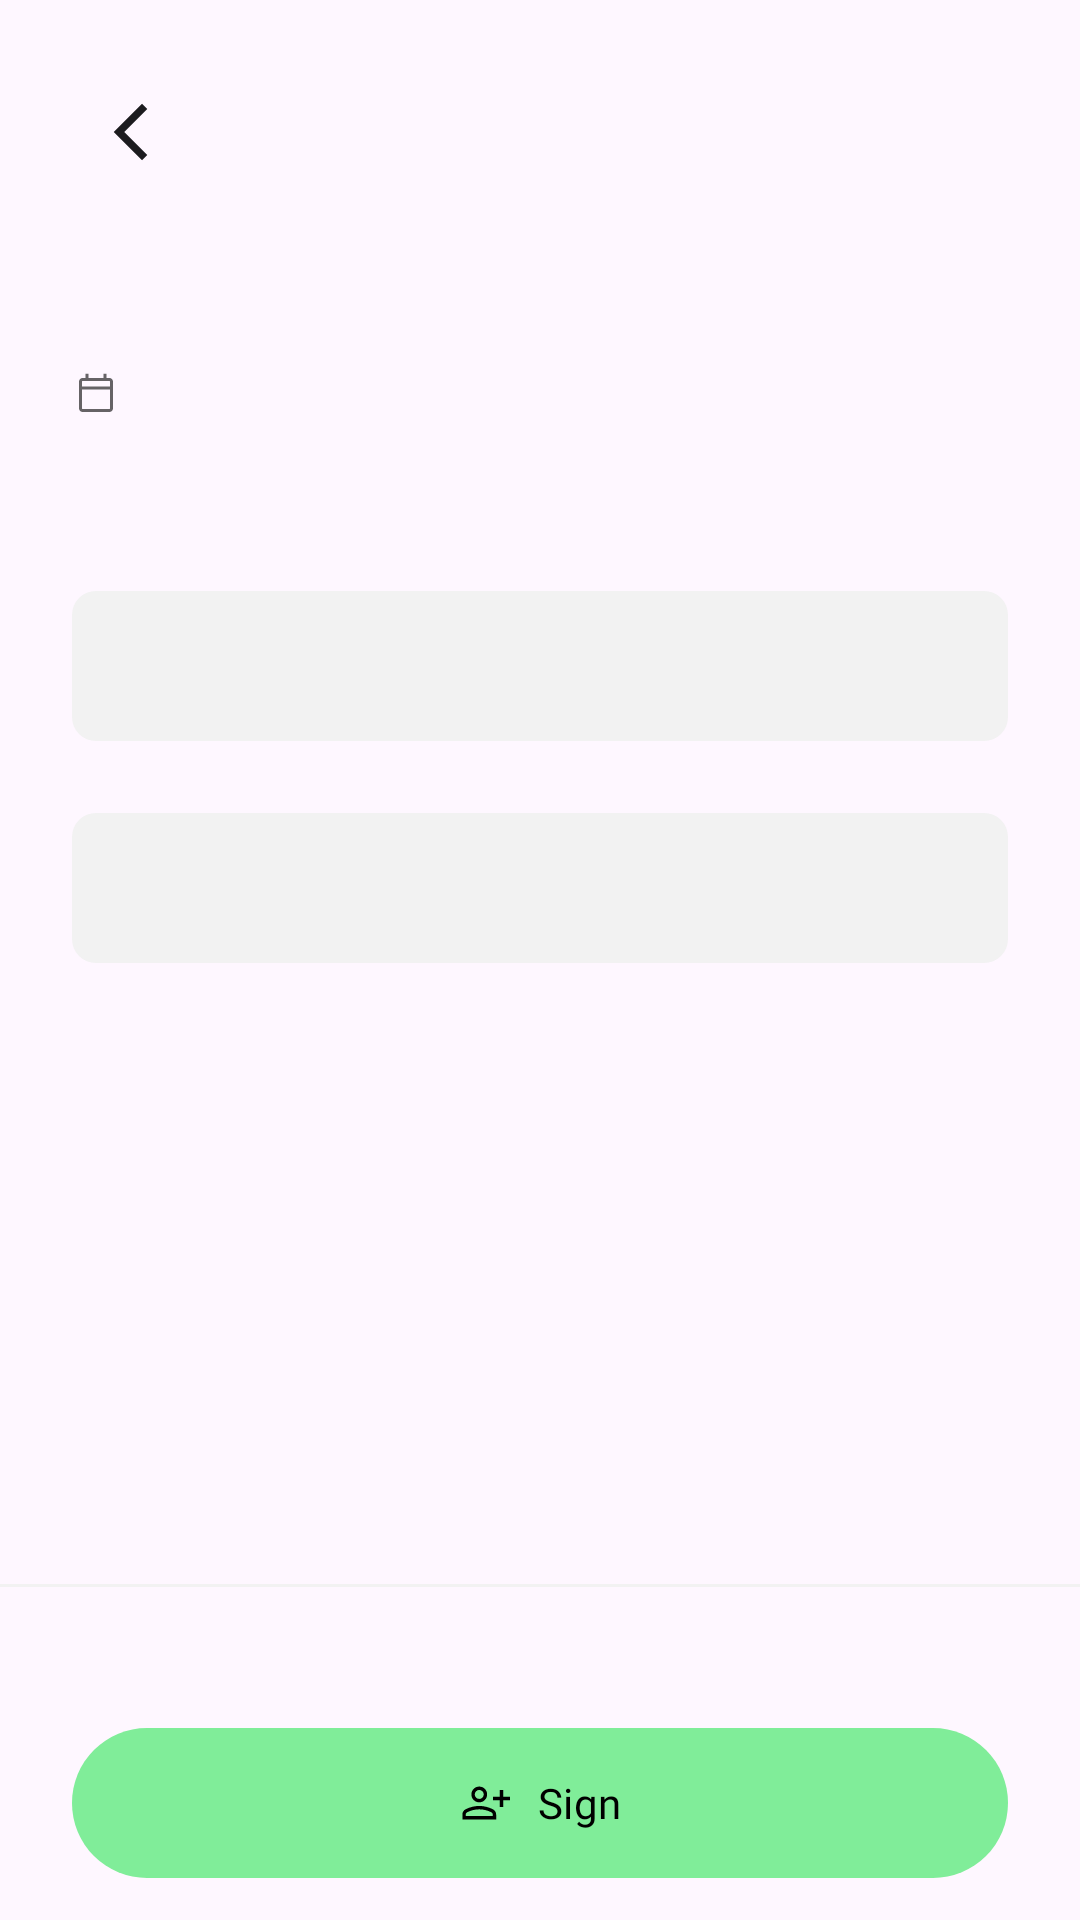

Named icons in this screenshot (1080px×1920px) and their bounding boxes, bbox=(x1, y1, x2, y2):
arrow back: bbox=(114, 104, 147, 160)
calendar: bbox=(79, 373, 113, 412)
